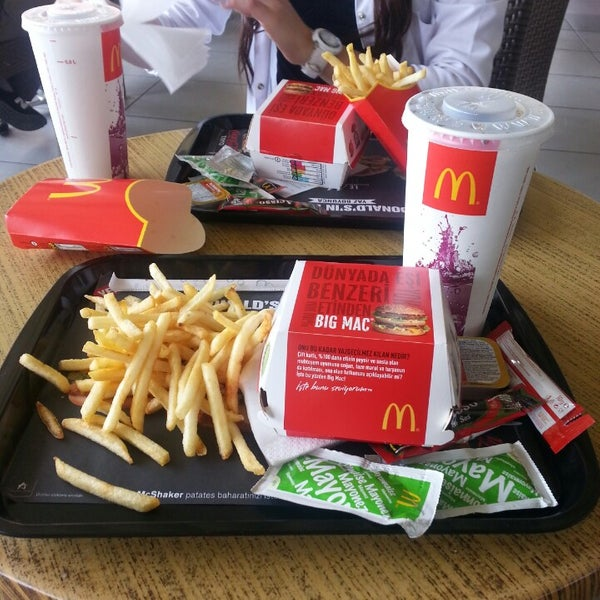mcdonalds: (429, 165, 481, 206), (374, 400, 421, 439)
